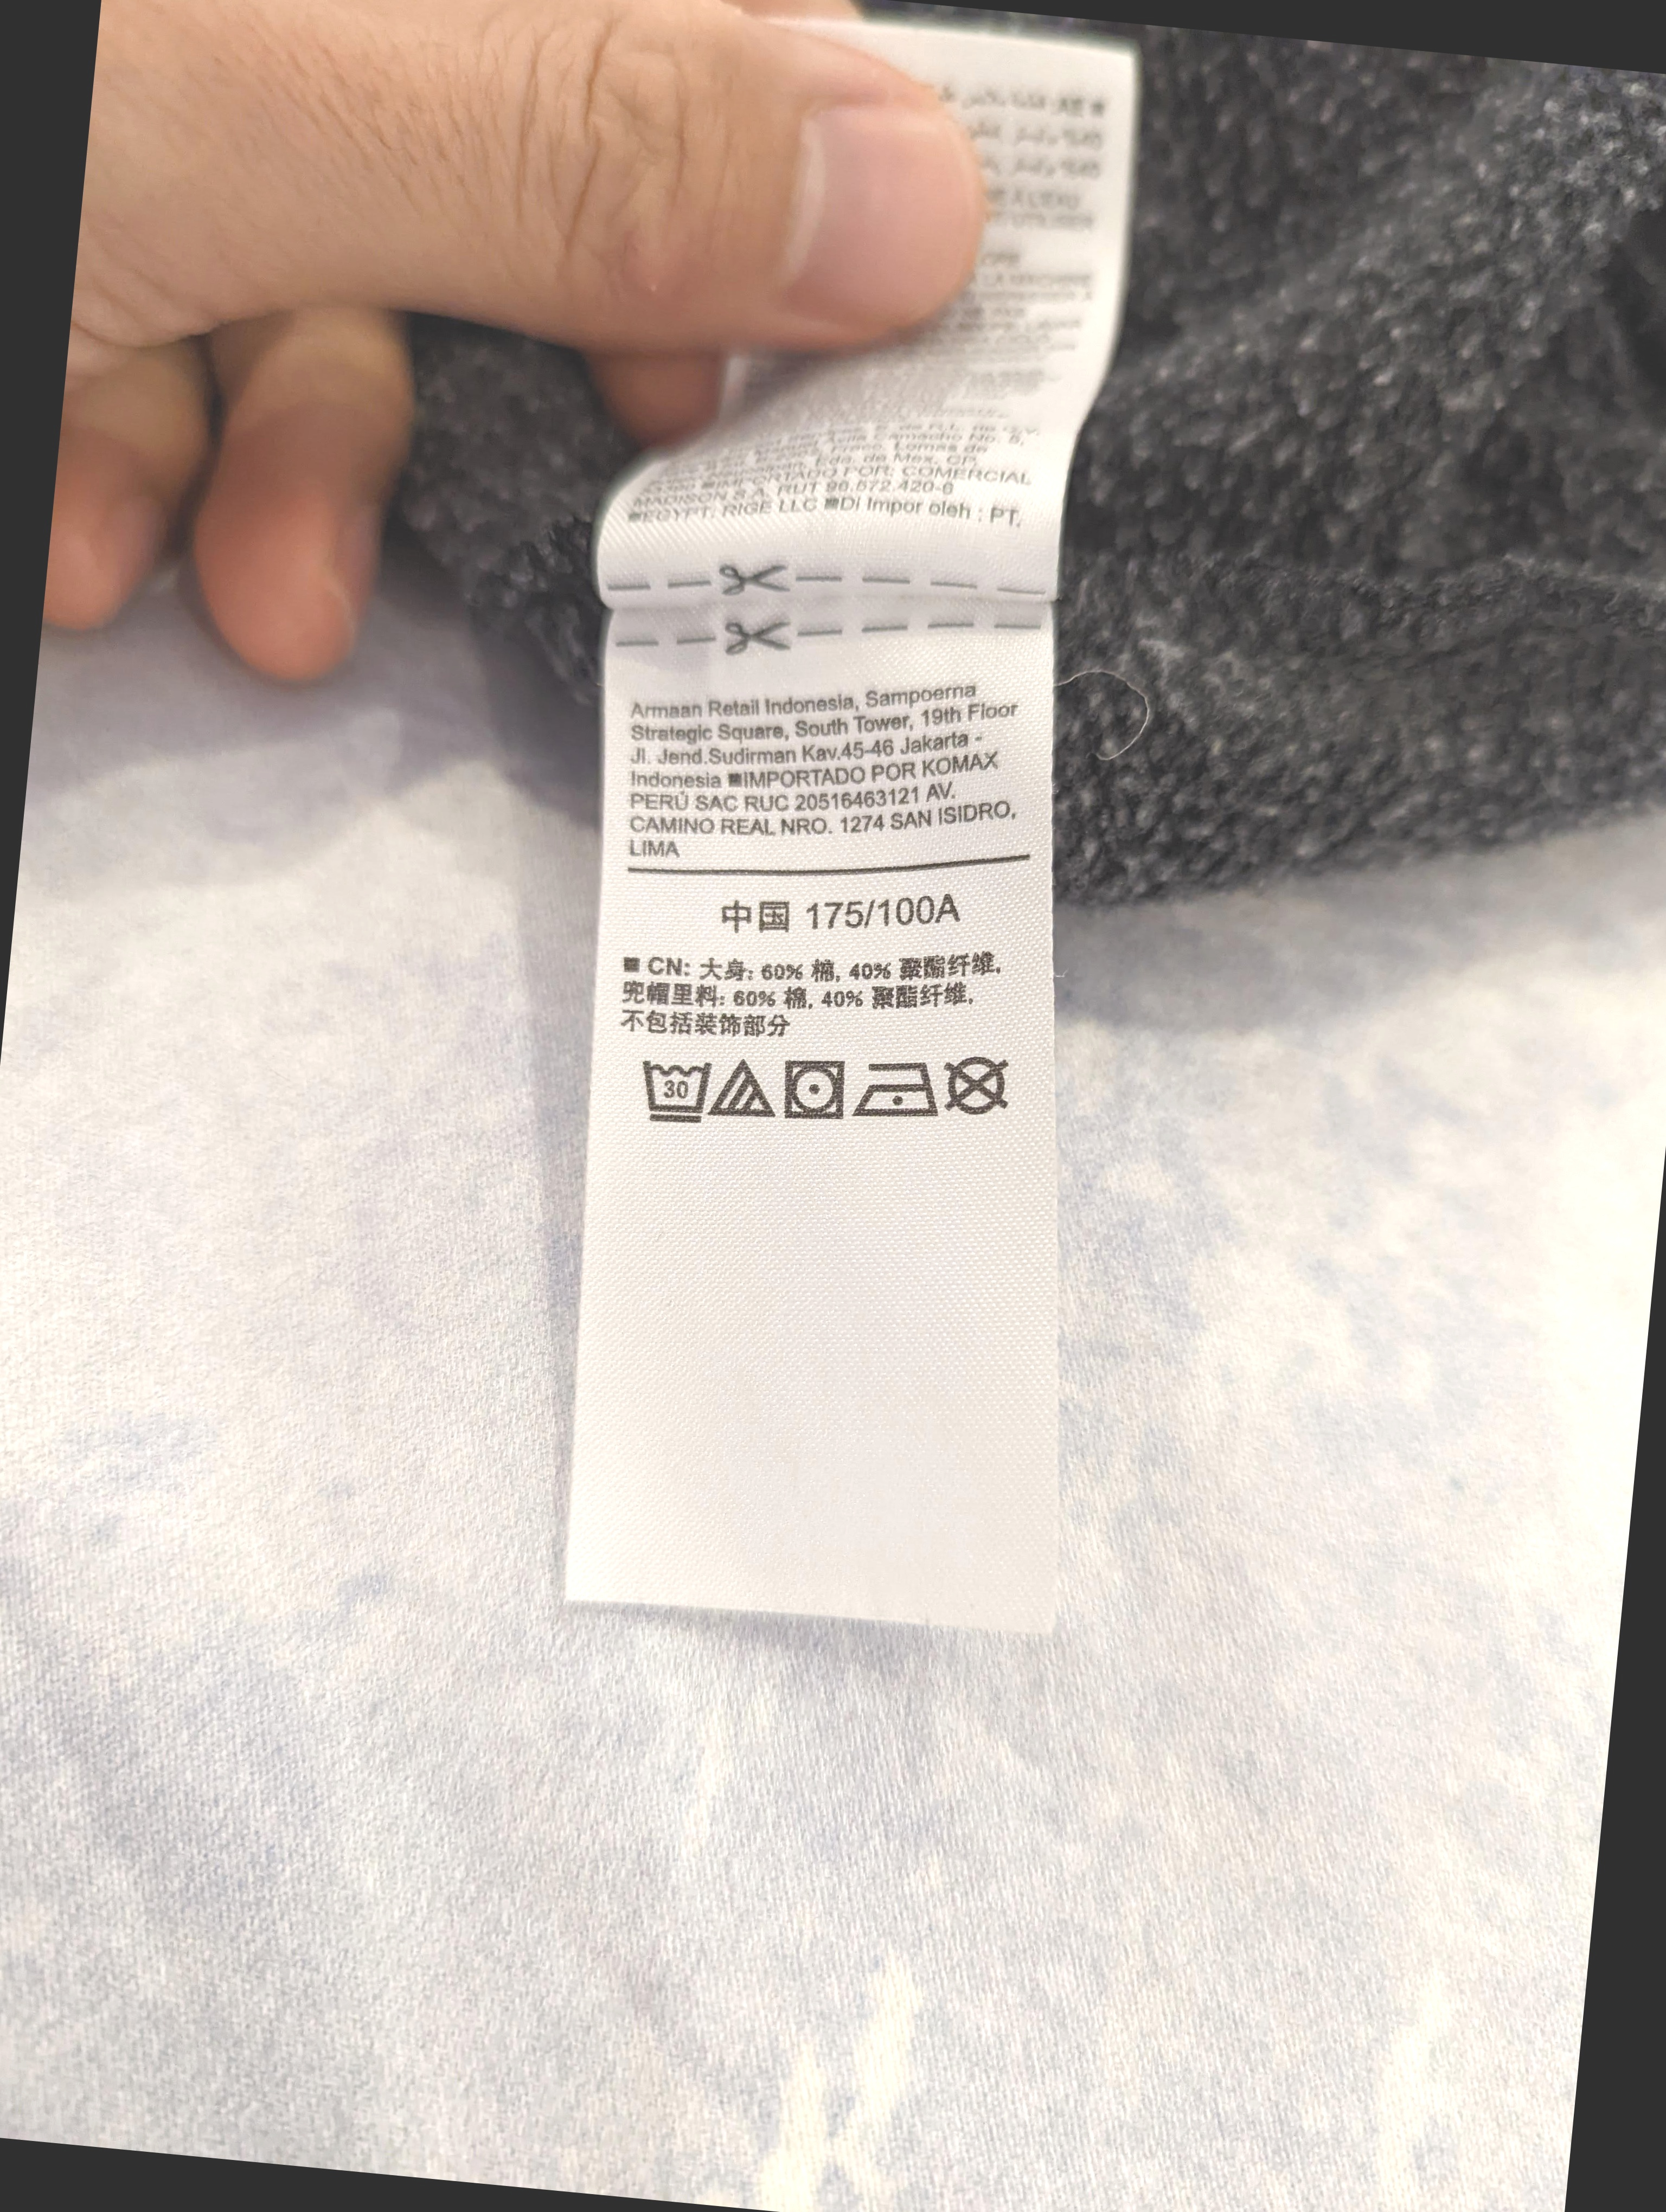30C: (642, 1046, 718, 1131)
DN_bleach: (707, 1056, 782, 1124)
DN_dry_clean: (940, 1051, 1013, 1124)
iron_low: (851, 1054, 943, 1133)
tumble_dry_low: (777, 1051, 852, 1128)
